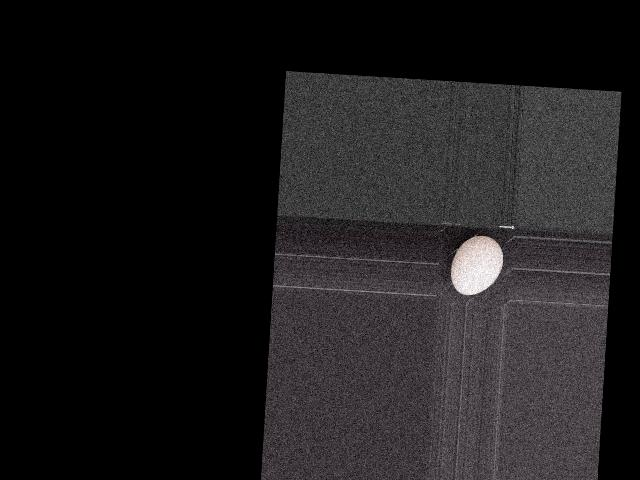egg: (449, 233, 504, 296)
